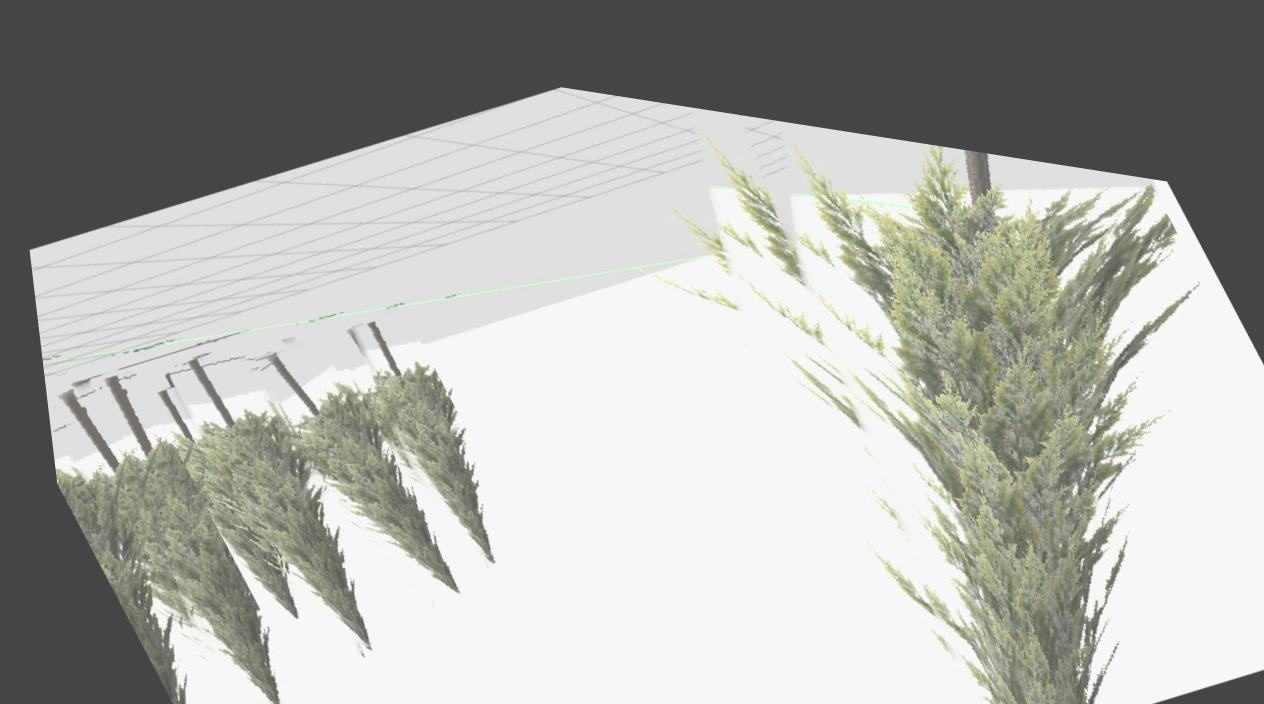tree_gazebo: (773, 112, 1172, 704), (81, 374, 260, 697), (176, 352, 354, 636), (252, 341, 444, 579), (147, 383, 282, 609), (355, 310, 480, 541)
